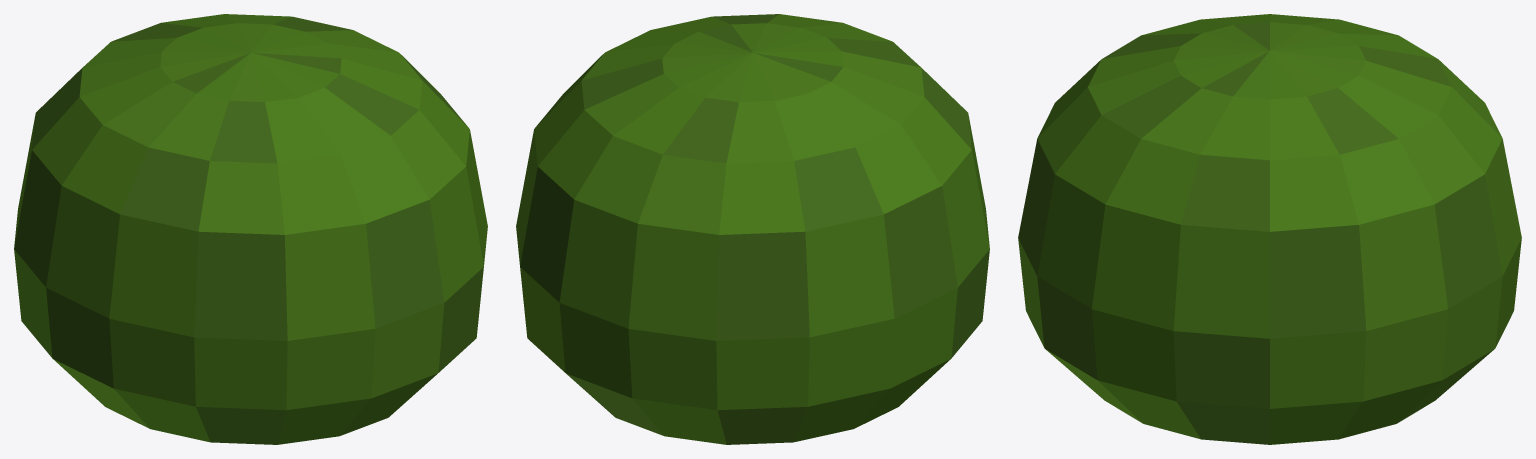
Rendered from salat.fbx.
3 views of the same model, side by side, from view 1: azimuth 30°, elevation 25°; view 2: azimuth 150°, elevation 25°; view 3: azimuth 270°, elevation 25° (orthographic).
Parts seen in each view (by area): view 1: salat; view 2: salat; view 3: salat.
Part boxes in pixels (x1,y1,x2,y2): salat: (14, 14, 487, 444); salat: (516, 14, 989, 444); salat: (1018, 14, 1521, 444).
Size of the model in its own units: 18.43 by 15.08 by 19.41.
